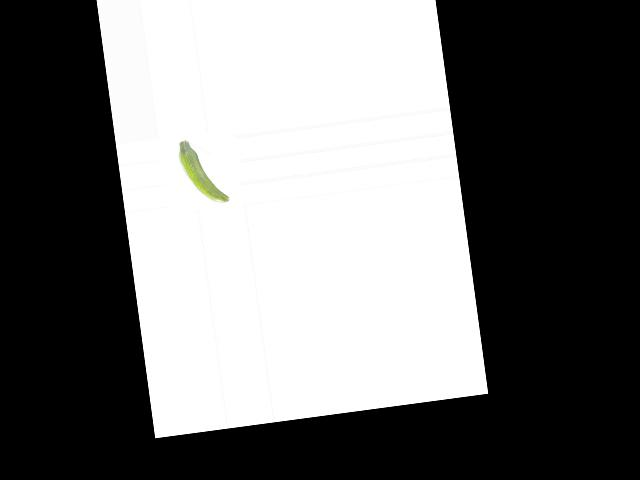cucumber: (176, 134, 230, 207)
